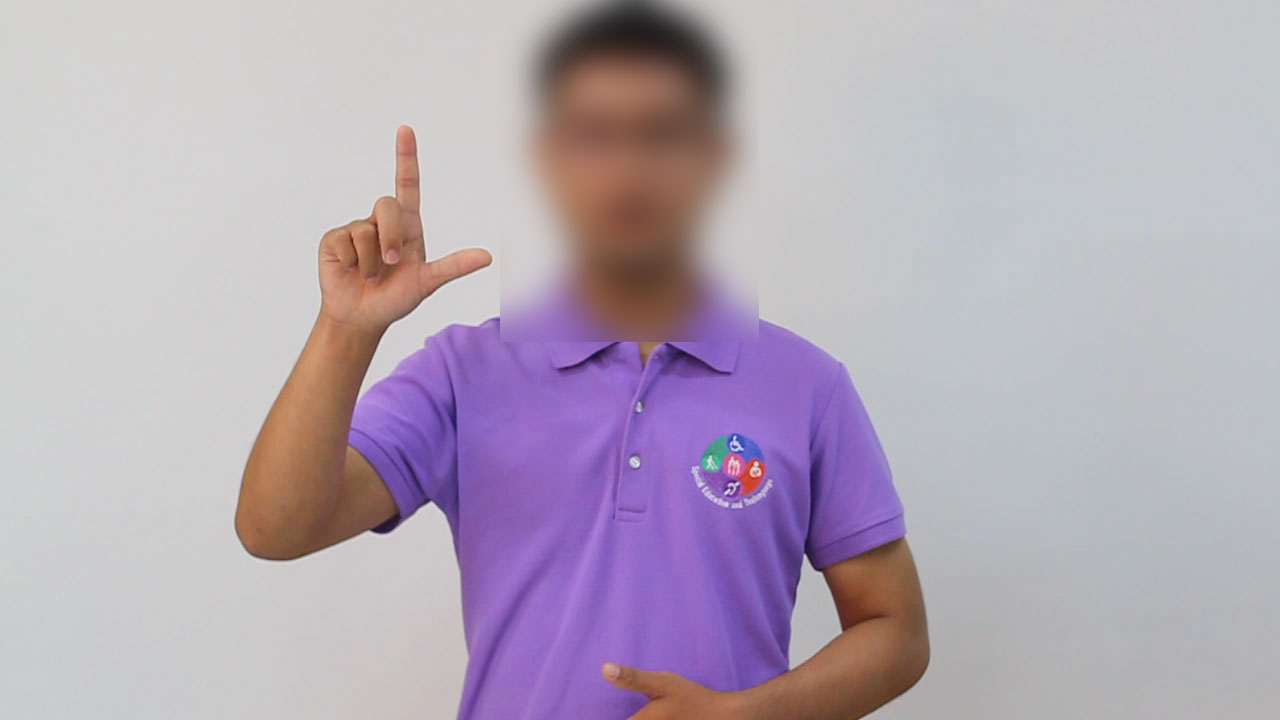lor: (305, 116, 508, 350)
